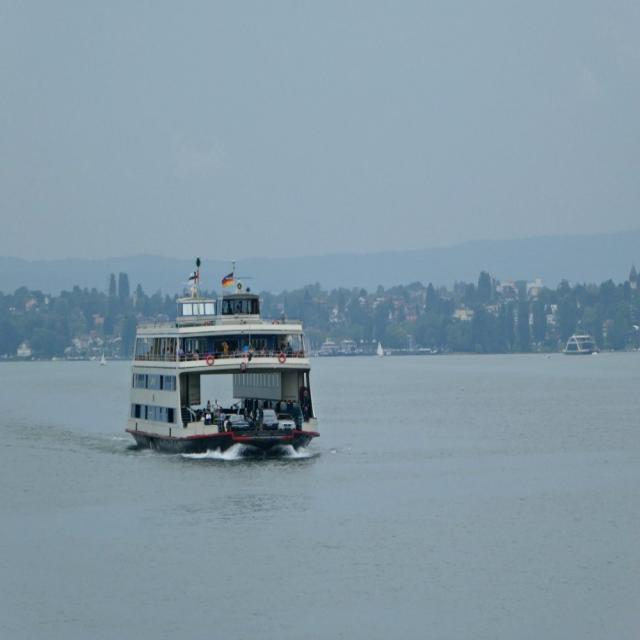passenger ship: (123, 266, 319, 459)
